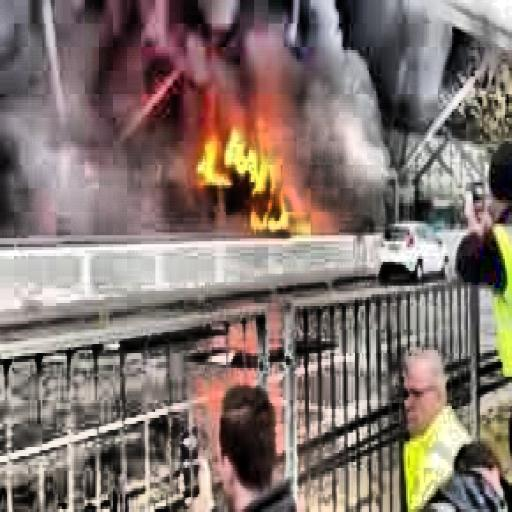fire: (187, 71, 332, 244)
